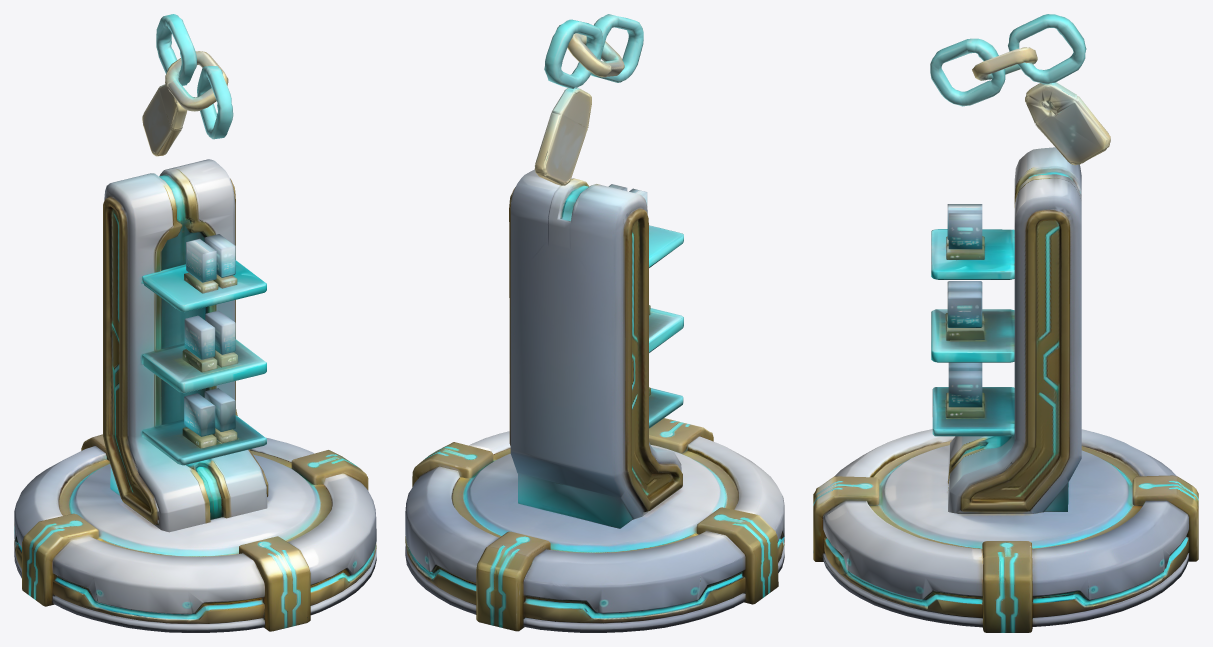
The model's file is maquina-afiliados.glb.
3 renders of one model, left to right at view 1: azimuth 30°, elevation 25°; view 2: azimuth 150°, elevation 25°; view 3: azimuth 270°, elevation 25°, orthographic. The views are drawn at different scales.
Visible parts, largest first — view 1: tripo_node_03573d82-fd23-4c5e-a594-119a004a6944; view 2: tripo_node_03573d82-fd23-4c5e-a594-119a004a6944; view 3: tripo_node_03573d82-fd23-4c5e-a594-119a004a6944.
Boxes of the visible parts, x1=… form: tripo_node_03573d82-fd23-4c5e-a594-119a004a6944: x1=14, y1=14, x2=376, y2=632; tripo_node_03573d82-fd23-4c5e-a594-119a004a6944: x1=405, y1=14, x2=784, y2=632; tripo_node_03573d82-fd23-4c5e-a594-119a004a6944: x1=813, y1=14, x2=1198, y2=632.
Bounding box in the file's own units: 0.3258 × 0.5 × 0.3258.
Materials: 1 (1 with a texture image).
